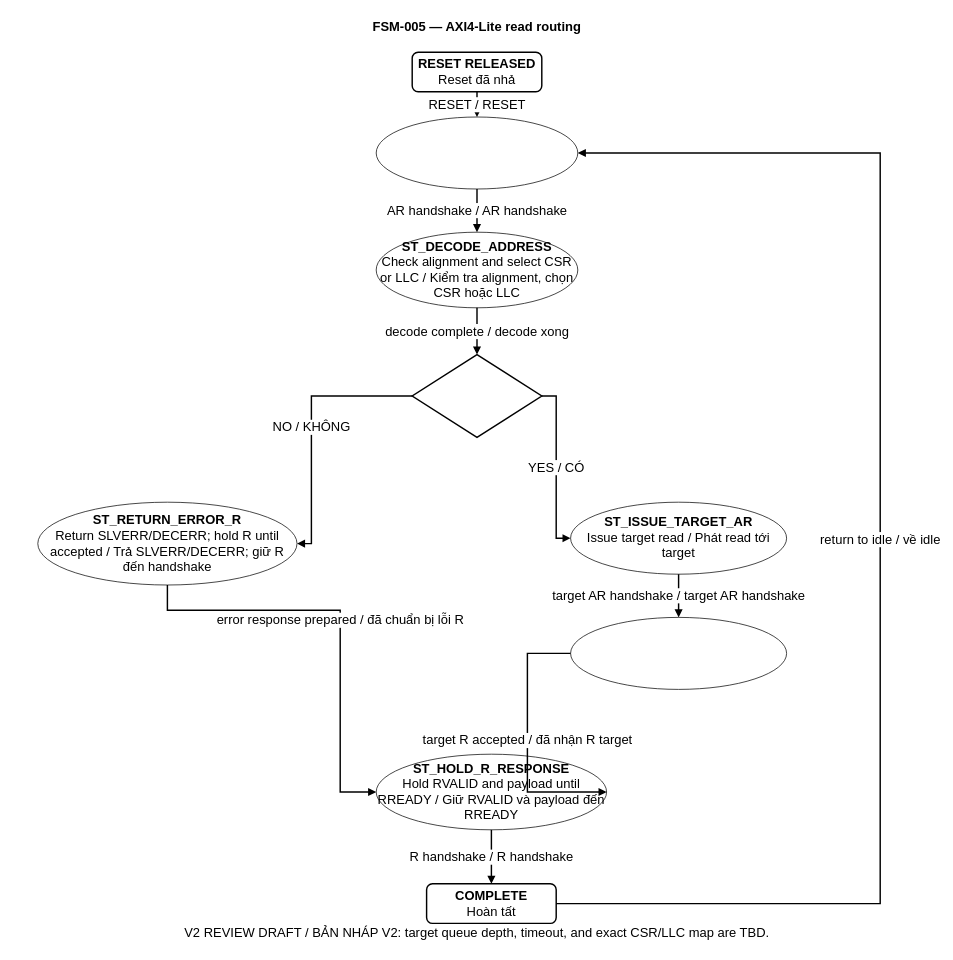
Some shapes in this 953 by 960 pixel diagram are drawn without their labels. Each missing label, with the centre of its shape:
"Mapped and aligned? Đúng alignment và có map?" belongs at [476,396].
"ST_WAIT_AR Wait for ARVALID and accept address / Chờ ARVALID và nhận address" belongs at [476,152].
"ST_WAIT_TARGET_R Wait for target R response / Chờ response R từ target" belongs at [678,653].
